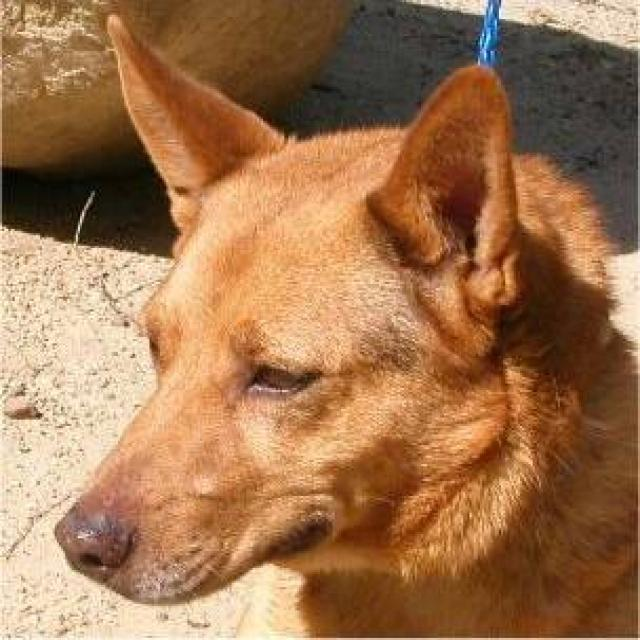Dog: (56, 7, 518, 638)
